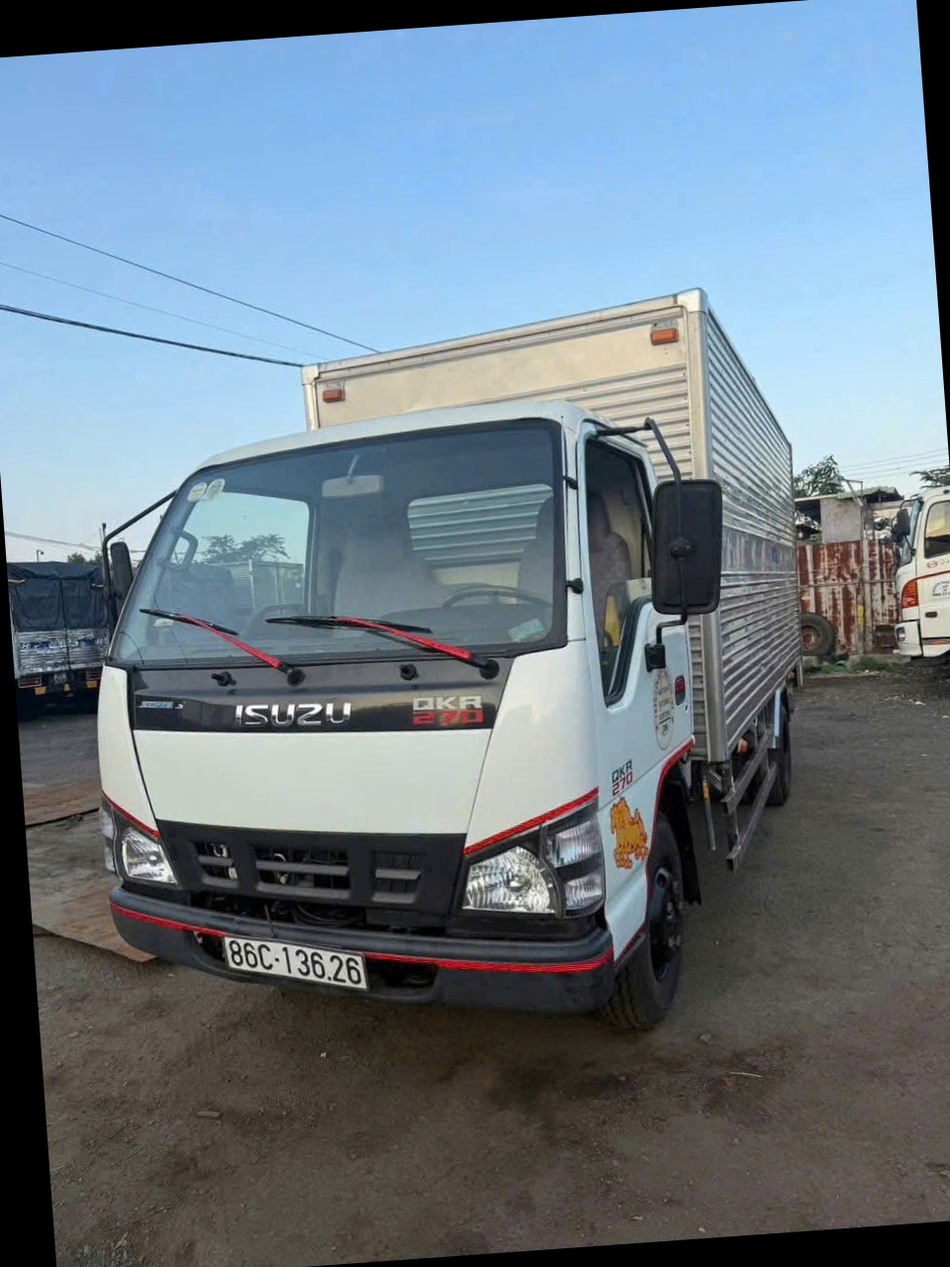Bien-so: (217, 928, 375, 1000)
